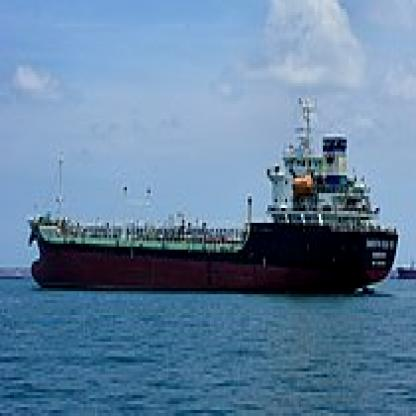Tanker: (30, 134, 394, 300)
